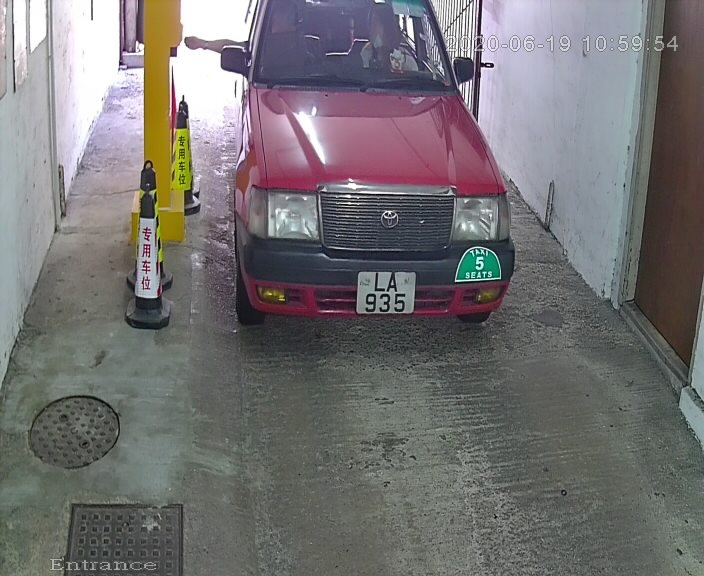taxi: (196, 2, 537, 349)
taxi_mark: (452, 238, 508, 289)
